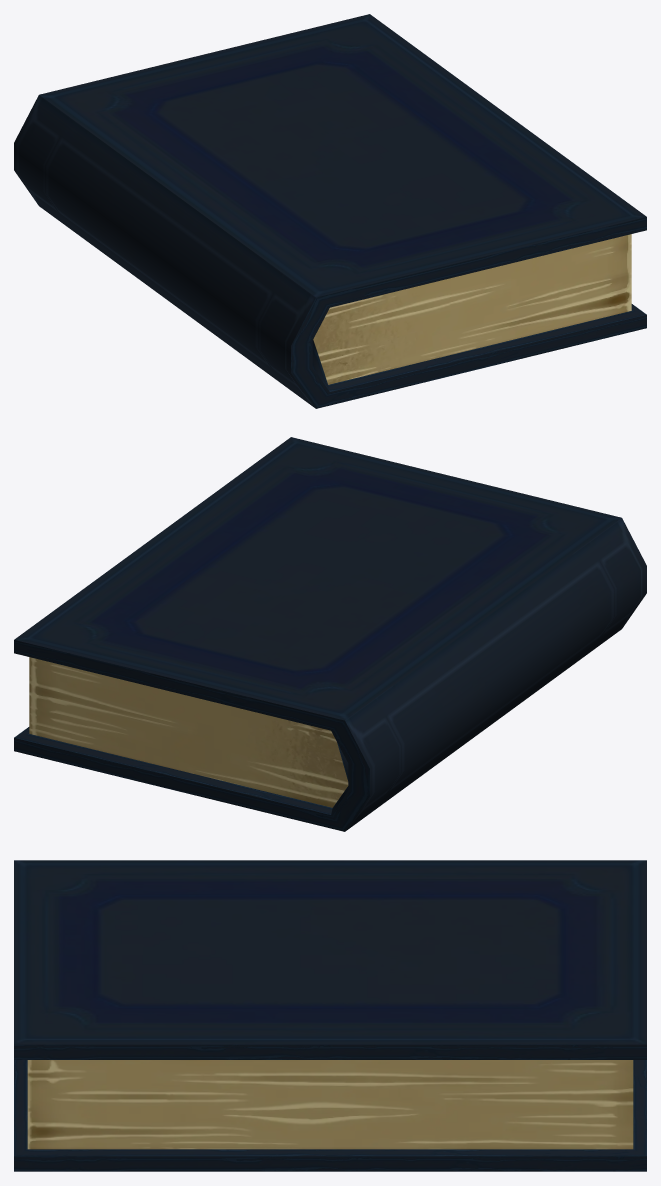
File: fp-book-5-lod2.glb
The picture shows the model from 3 angles, top to bottom: view 1: azimuth 30°, elevation 25°; view 2: azimuth 150°, elevation 25°; view 3: azimuth 270°, elevation 25°; orthographic projection. The views are drawn at different scales.
Visible parts, largest first — view 1: WeaponMesh_fp-book-5_Book_5; view 2: WeaponMesh_fp-book-5_Book_5; view 3: WeaponMesh_fp-book-5_Book_5.
Part boxes in pixels (<box>): WeaponMesh_fp-book-5_Book_5: <box>14,14,646,408</box>; WeaponMesh_fp-book-5_Book_5: <box>14,437,646,831</box>; WeaponMesh_fp-book-5_Book_5: <box>14,860,646,1171</box>.
Bounding box in the file's own units: 0.4078 × 0.1219 × 0.55.
Materials: 1 (1 with a texture image).
